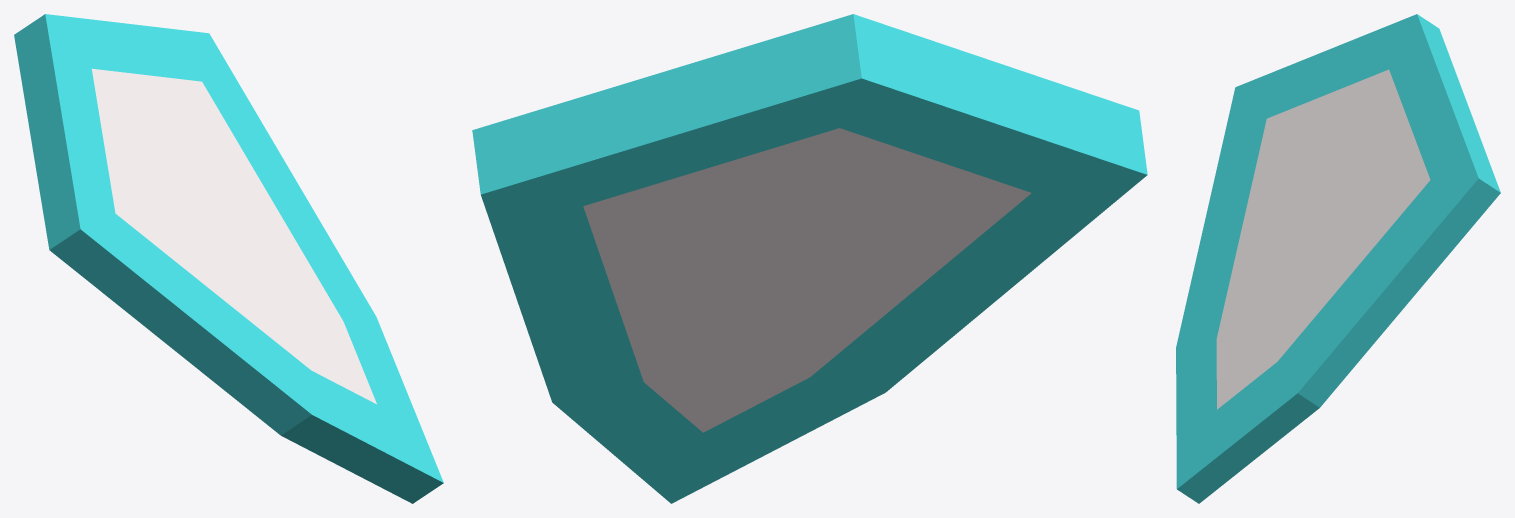
Rendered from wing_l.glb.
3 renders of one model, left to right at view 1: azimuth 30°, elevation 25°; view 2: azimuth 150°, elevation 25°; view 3: azimuth 270°, elevation 25°, orthographic. The views are drawn at different scales.
Visible parts, largest first — view 1: WingL; view 2: WingL; view 3: WingL.
Boxes of the visible parts, x1,y1,x2,y2 form: WingL: (14,14,443,503); WingL: (472,14,1147,503); WingL: (1176,14,1500,503).
Size of the model in its own units: 0.4137 by 0.5134 by 0.388.
